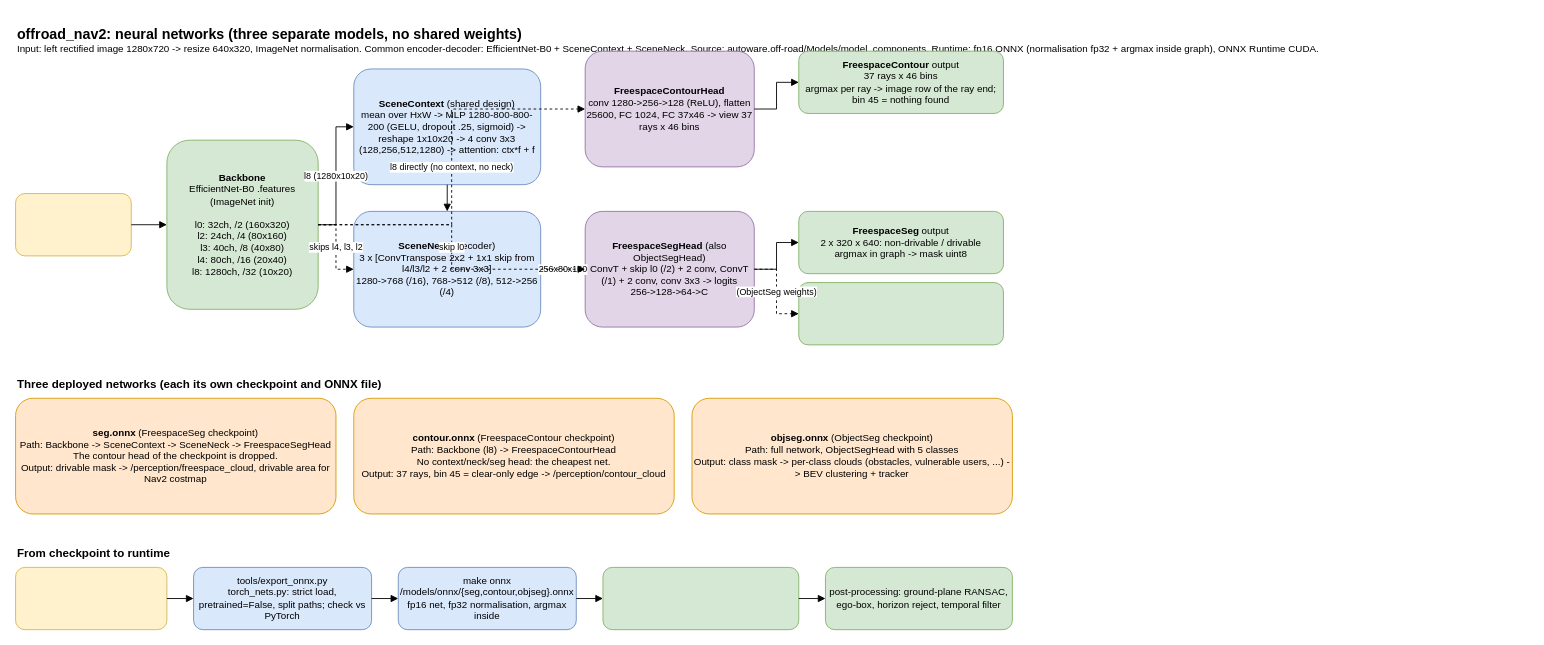
The diagram is 1544 pixels wide and 645 high, and some of its shapes have lost their labels. Here are the shapes that lost their labels. From the top down, the centre of each, then its label:
At point (73, 224): "Image 3x320x640 (RGB, normalised)".
At point (900, 313): "ObjectSeg output 5 x 320 x 640: 5 object classes argmax in graph -> class mask".
At point (91, 598): "PyTorch checkpoints (/models, snapshot)".
At point (700, 598): "engine.cpp (ONNX Runtime CUDA) perception_node: 3 sessions, serial run".
